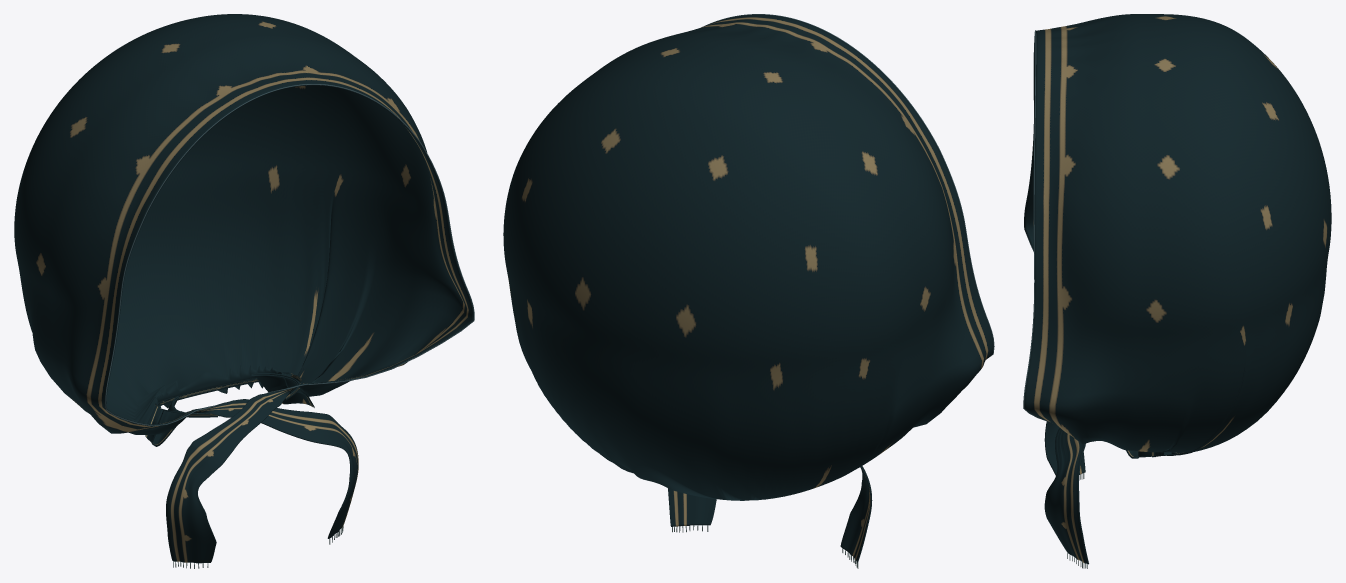
File: Feminine-twin-braids-sweatshirt-pashmina250-headgear.glb
The picture shows the model from 3 angles, left to right: view 1: azimuth 30°, elevation 25°; view 2: azimuth 150°, elevation 25°; view 3: azimuth 270°, elevation 25°; orthographic projection. The views are drawn at different scales.
Visible parts, largest first — view 1: 226 headgear / Headwear / continuous woven pashmina239, 226 headgear / Headwear / face edge239; view 2: 226 headgear / Headwear / continuous woven pashmina239, 226 headgear / Headwear / face edge239; view 3: 226 headgear / Headwear / continuous woven pashmina239, 226 headgear / Headwear / face edge239.
Boxes of the visible parts, <box> form: 226 headgear / Headwear / continuous woven pashmina239: <box>14,14,473,563</box>; 226 headgear / Headwear / face edge239: <box>105,84,474,426</box>; 226 headgear / Headwear / continuous woven pashmina239: <box>503,14,993,562</box>; 226 headgear / Headwear / face edge239: <box>701,14,994,359</box>; 226 headgear / Headwear / continuous woven pashmina239: <box>1024,14,1331,564</box>; 226 headgear / Headwear / face edge239: <box>1023,30,1049,421</box>.
Bounding box in the file's own units: 1.11 × 1.38 × 0.7779.
3 materials, 1 textured.
